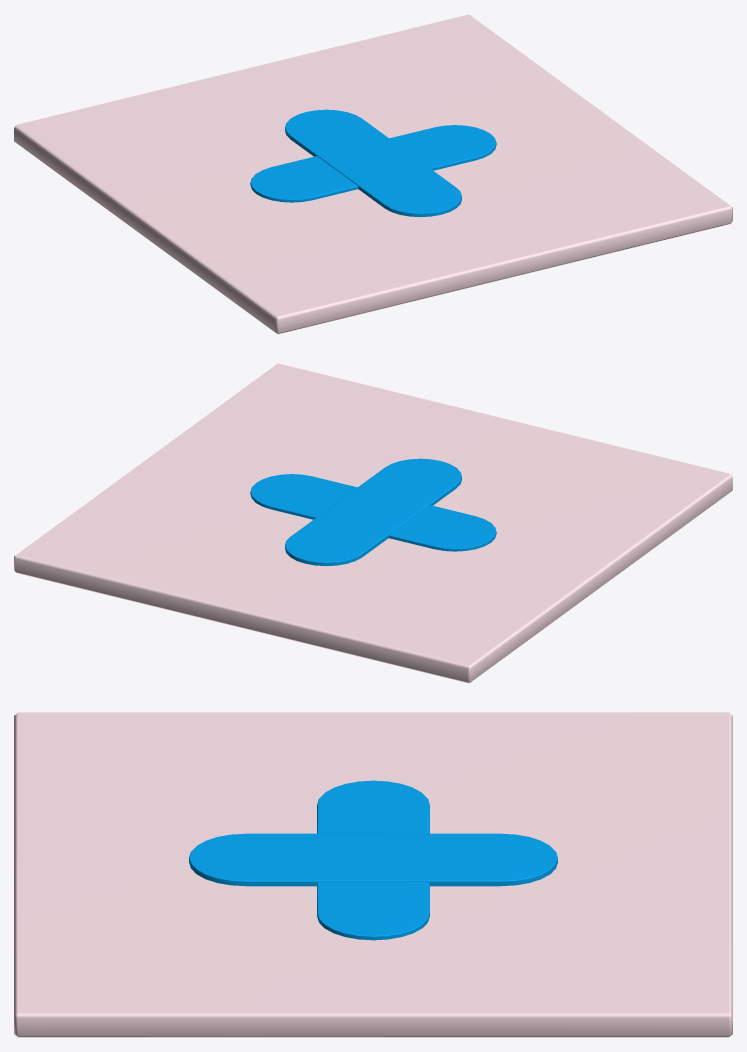
The model's file is Store_13_Vinyl_Box_4.glb.
The picture shows the model from 3 angles, top to bottom: view 1: azimuth 30°, elevation 25°; view 2: azimuth 150°, elevation 25°; view 3: azimuth 270°, elevation 25°; orthographic projection. The views are drawn at different scales.
Parts seen in each view (by area): view 1: Store_13_Vinyl_Box_4; view 2: Store_13_Vinyl_Box_4; view 3: Store_13_Vinyl_Box_4.
Part boxes in pixels (x1,y1,x2,y2): Store_13_Vinyl_Box_4: (14,14,732,334); Store_13_Vinyl_Box_4: (14,363,732,683); Store_13_Vinyl_Box_4: (14,712,732,1037).
Bounding box in the file's own units: 0.434 × 0.0203 × 0.434.
1 material, 1 textured.
